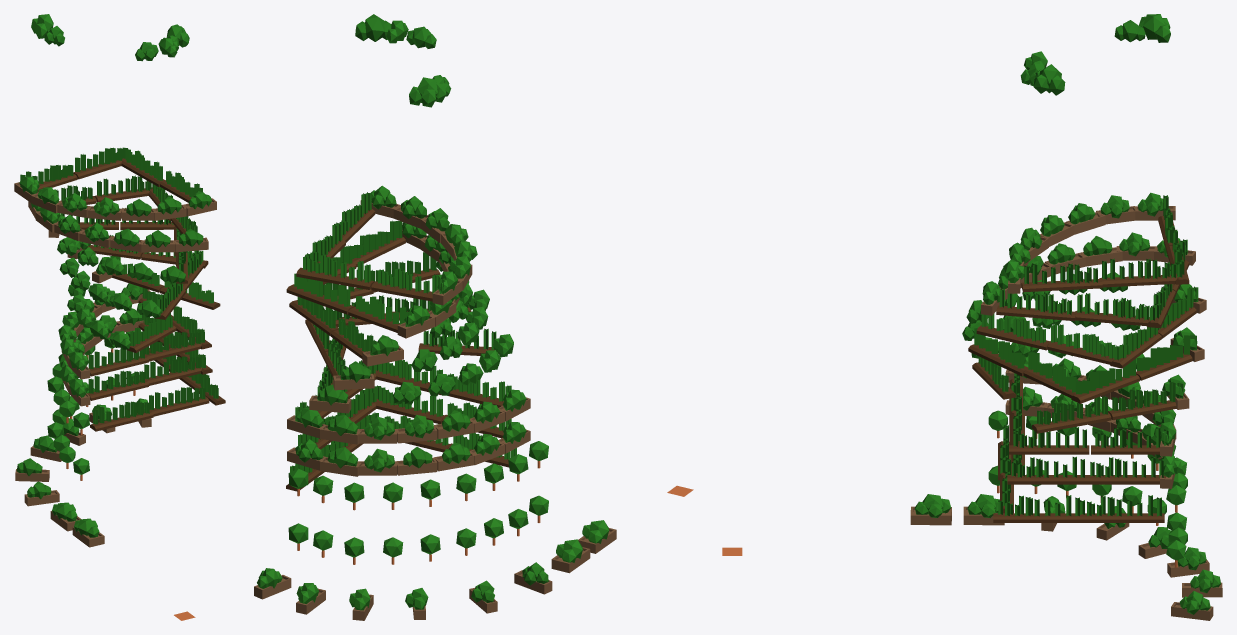
The model's file is solution_11_building_cover.fbx.
3 views of the same model, side by side, from view 1: azimuth 30°, elevation 25°; view 2: azimuth 150°, elevation 25°; view 3: azimuth 270°, elevation 25° (orthographic). The views are drawn at different scales.
Visible parts, largest first — view 1: solution_11_building_cover; view 2: solution_11_building_cover; view 3: solution_11_building_cover.
Boxes of the visible parts, x1=… form: solution_11_building_cover: x1=14, y1=14, x2=225, y2=620; solution_11_building_cover: x1=254, y1=14, x2=693, y2=620; solution_11_building_cover: x1=722, y1=14, x2=1222, y2=620.
Bounding box in the file's own units: 2715 × 6225 × 5051.
